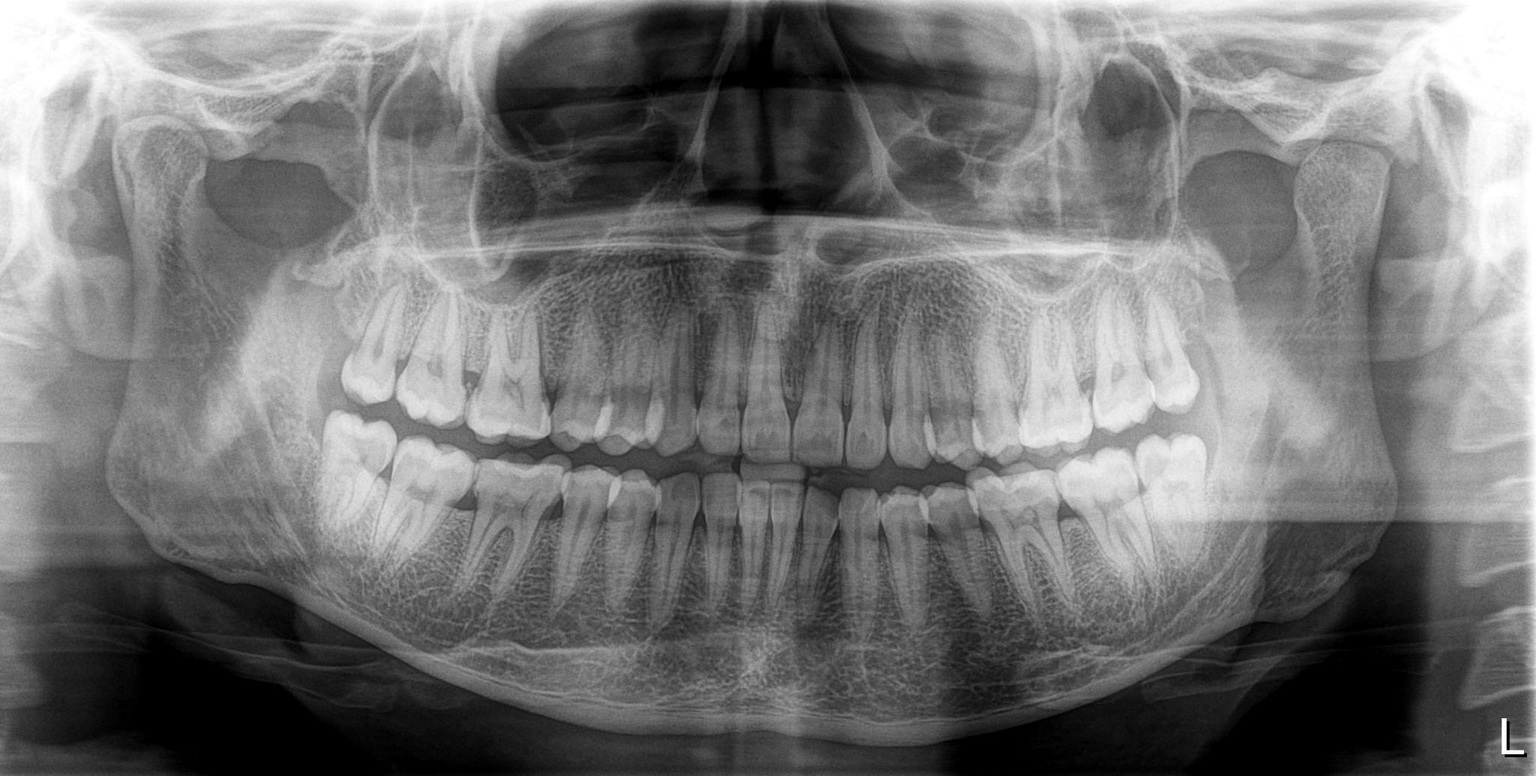Dental Caries: (459, 364, 487, 399), (1110, 360, 1129, 383)
